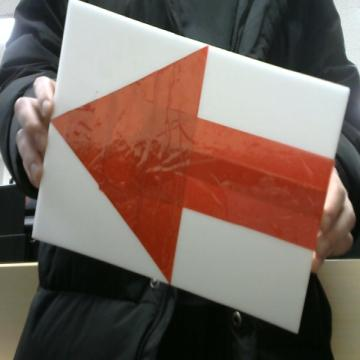red_left: (52, 47, 333, 281)
